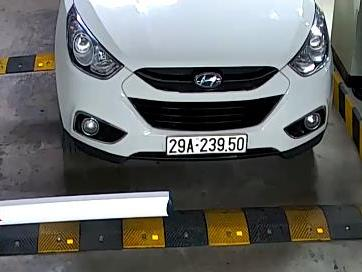number: (165, 133, 248, 156)
